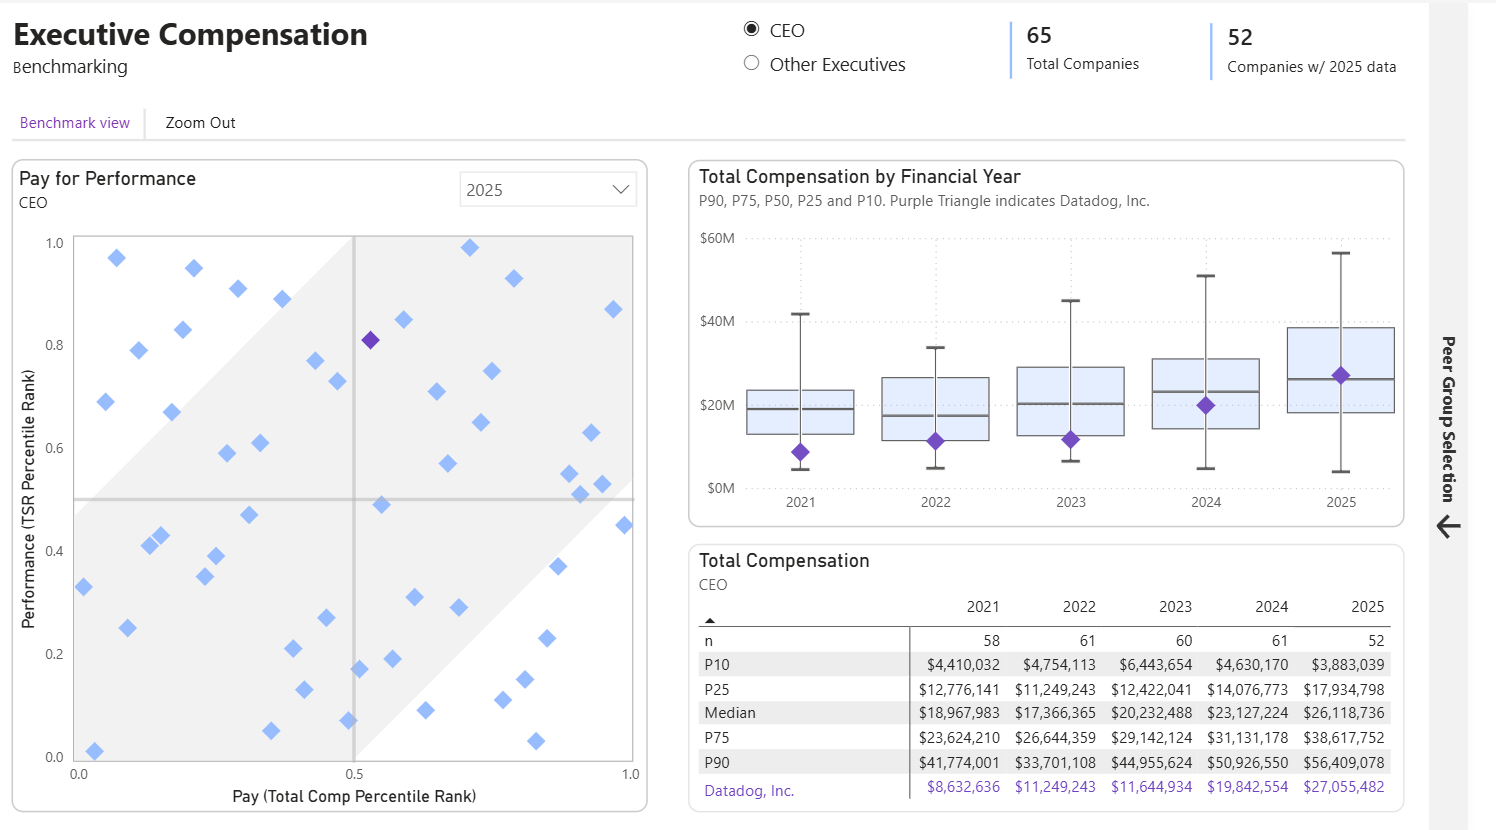

This screenshot's page, from the dashboard's own definition file:
{"tool":"powerbi","page":{"name":"Benchmarking","canvas":[1280,720],"ordinal":0},"visuals":[{"type":"cardVisual","fields":{"Data":["Count(gold_company_profile.company_name)"]},"box":[877.9,0,141.1,84.5],"z":0,"group":"g5"},{"type":"shape","title":"Filter Pane Default","box":[1245.5,0,34.5,720],"z":0,"group":"g6"},{"type":"cardVisual","fields":{"Data":["gold_sec_def14a.PEO Count"]},"box":[1050.7,1.8,182.7,84.5],"z":0,"group":"g4"},{"type":"shape","box":[130.5,91.4,12.3,27.6],"z":0},{"type":"shape","box":[75.6,200.6,483.8,454.4],"z":0,"group":"g2"},{"type":"shape","box":[76.3,442.7,242,211],"z":0,"group":"g1"},{"type":"pivotTable","title":"Total Compensation","fields":{"Columns":["gold_sec_def14a.fiscal_year"],"Rows":["dim_boxplot_rows.label"],"Values":["dim_boxplot_rows.BoxplotValue"]},"box":[606,467,619,232],"z":0,"group":"g3"},{"type":"textbox","title":"Title","box":[18,2,341,73],"z":1000},{"type":"shape","box":[876.3,16,17.6,49.1],"z":1000,"group":"g5"},{"type":"shape","box":[1045.3,17.6,24.2,49.1],"z":1000,"group":"g4"},{"type":"group","id":"g1","title":"Background Grey","box":[75.3,200.7,483.3,454],"z":1000,"group":"g2"},{"type":"shape","box":[75.3,200.7,242,243.3],"z":1000,"group":"g1"},{"type":"actionButton","box":[1248.2,437.3,30.9,30],"z":1000,"group":"g6"},{"type":"shape","box":[614.8,669.2,118.2,22.5],"z":1000,"group":"g3"},{"type":"shape","box":[22.7,109.1,1202.7,19.1],"z":2000},{"type":"scatterChart","title":"Pay for Performance","fields":{"Category":["gold_sec_def14a.company_name"],"X":["gold_sec_def14a.RoleSelected_PercentileRank"],"Y":["gold_sec_def14a.TSR_PercentileRank"]},"box":[22.3,134.6,550,564.2],"z":2000,"group":"g2"},{"type":"lineStackedColumnComboChart","title":"Total Compensation by Financial Year","fields":{"Category":["gold_sec_def14a.fiscal_year"],"Y":["gold_sec_def14a.PEO Pay Pctile 25","gold_sec_def14a.PEO Pay IQR 25-50","gold_sec_def14a.PEO Pay IQR 50-75"],"Y2":["gold_sec_def14a.PEO Pay Pctile 10","gold_sec_def14a.Comp_Selected_Company","gold_sec_def14a.PEO Pay Pctile 90"]},"box":[606,135,619,317],"z":2000,"group":"g3"},{"type":"shape","box":[315.3,201.8,242.2,211.1],"z":2000,"group":"g1"},{"type":"group","id":"g2","title":"P4P","box":[22.3,134.6,550,564.2],"z":3000,"group":"g3"},{"type":"slicer","fields":{"Values":["gold_sec_def14a.fiscal_year"]},"box":[398.5,134.6,173.7,51.3],"z":3000,"group":"g2"},{"type":"shape","box":[316,411.4,242.7,243.3],"z":3000,"group":"g1"},{"type":"group","id":"g3","title":"Default","box":[18.1,0,1215.3,704.1],"z":4000},{"type":"group","id":"g4","title":"Card comps with data","box":[1045.3,1.8,188.1,84.5],"z":4000,"group":"g3"},{"type":"group","id":"g5","title":"Card Total comps","box":[876.3,0,142.7,84.5],"z":5000,"group":"g3"},{"type":"group","id":"g6","title":"Filter Pane Default","box":[1245.5,0,34.5,720],"z":6000},{"type":"slicer","title":"Position Slicer","fields":{"Values":["RoleSelection.RoleSelection"]},"box":[640,4,196,74],"z":6000,"group":"g3"},{"type":"textbox","box":[615,664.3,163.3,31],"z":7000,"group":"g3"},{"type":"shape","box":[615.5,690.5,96.7,13.7],"z":8000,"group":"g3"},{"type":"actionButton","title":"Zoom view not selected","box":[135.6,87,100.1,31.9],"z":8250,"group":"g3"},{"type":"actionButton","title":"Benchmark view selected","box":[18.1,87,117.5,31.9],"z":8750,"group":"g3"}]}

Visuals, with their boxes in screenshot pixels (x1, y1, x2, y2), scaled from the page's 1280x720 canvas onto the 1496x830 screenshot:
cardVisual - Count(gold_company_profile.company_name): crop(1026, 0, 1191, 97)
"Filter Pane Default" shape: crop(1456, 0, 1495, 829)
cardVisual - gold_sec_def14a.PEO Count: crop(1228, 2, 1442, 99)
shape: crop(153, 105, 167, 137)
shape: crop(88, 231, 654, 755)
shape: crop(89, 510, 372, 754)
"Total Compensation" pivotTable: crop(708, 538, 1432, 806)
"Title" textbox: crop(21, 2, 420, 86)
shape: crop(1024, 18, 1045, 75)
shape: crop(1222, 20, 1250, 77)
"Background Grey" group: crop(88, 231, 653, 755)
shape: crop(88, 231, 371, 512)
actionButton: crop(1459, 504, 1495, 539)
shape: crop(719, 771, 857, 797)
shape: crop(27, 126, 1432, 148)
"Pay for Performance" scatterChart: crop(26, 155, 669, 806)
"Total Compensation by Financial Year" lineStackedColumnComboChart: crop(708, 156, 1432, 521)
shape: crop(369, 233, 652, 476)
"P4P" group: crop(26, 155, 669, 806)
slicer - gold_sec_def14a.fiscal_year: crop(466, 155, 669, 214)
shape: crop(369, 474, 653, 755)
"Default" group: crop(21, 0, 1442, 812)
"Card comps with data" group: crop(1222, 2, 1442, 99)
"Card Total comps" group: crop(1024, 0, 1191, 97)
"Filter Pane Default" group: crop(1456, 0, 1495, 829)
"Position Slicer" slicer: crop(748, 5, 977, 90)
textbox: crop(719, 766, 910, 802)
shape: crop(719, 796, 832, 812)
"Zoom view not selected" actionButton: crop(158, 100, 275, 137)
"Benchmark view selected" actionButton: crop(21, 100, 158, 137)
